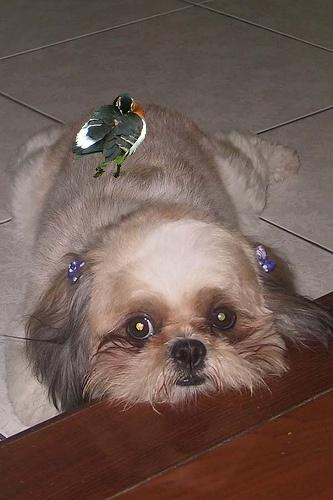tampered: (73, 94, 146, 178)
